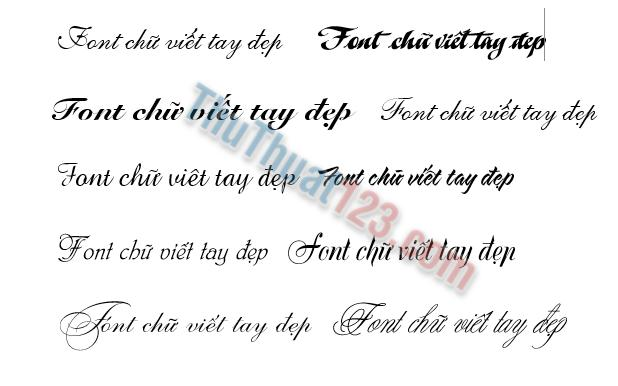text: (181, 78, 479, 296), (58, 298, 314, 354), (50, 92, 357, 133), (330, 300, 570, 350), (56, 160, 301, 197), (378, 94, 600, 132), (316, 25, 548, 61), (285, 233, 517, 269), (56, 24, 286, 60), (55, 231, 270, 268), (318, 164, 518, 198)
